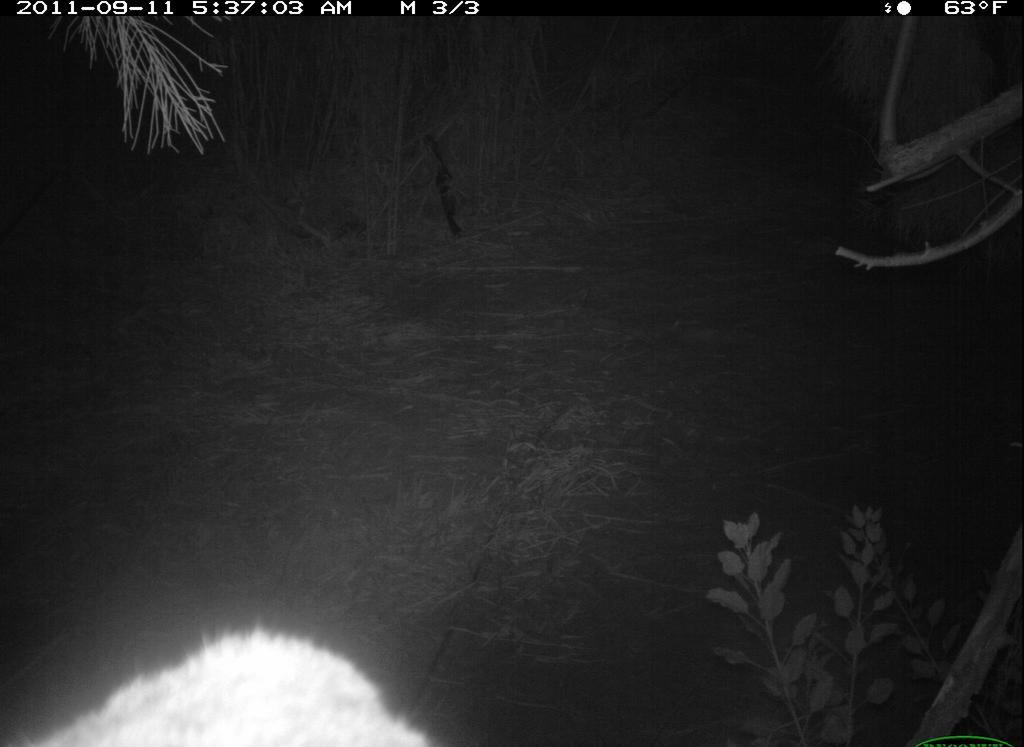bobcat: (6, 602, 468, 744)
